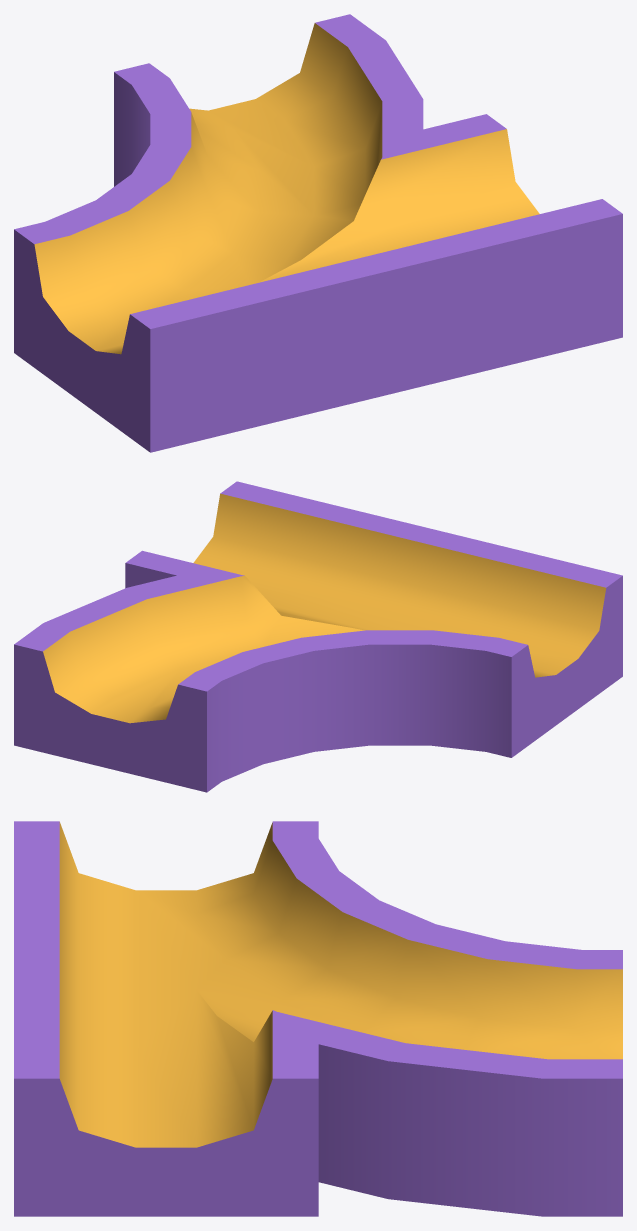
The model's file is split-left-col.glb.
3 renders of one model, top to bottom at view 1: azimuth 30°, elevation 25°; view 2: azimuth 150°, elevation 25°; view 3: azimuth 270°, elevation 25°, orthographic. The views are drawn at different scales.
Parts seen in each view (by area): view 1: split-left-col; view 2: split-left-col; view 3: split-left-col.
Boxes of the visible parts, bbox=[...] form: split-left-col: bbox=[14, 14, 622, 452]; split-left-col: bbox=[14, 481, 622, 792]; split-left-col: bbox=[14, 821, 622, 1216].
Bounding box in the file's own units: 2 × 0.5 × 2.
Materials: 1 (1 with a texture image).
